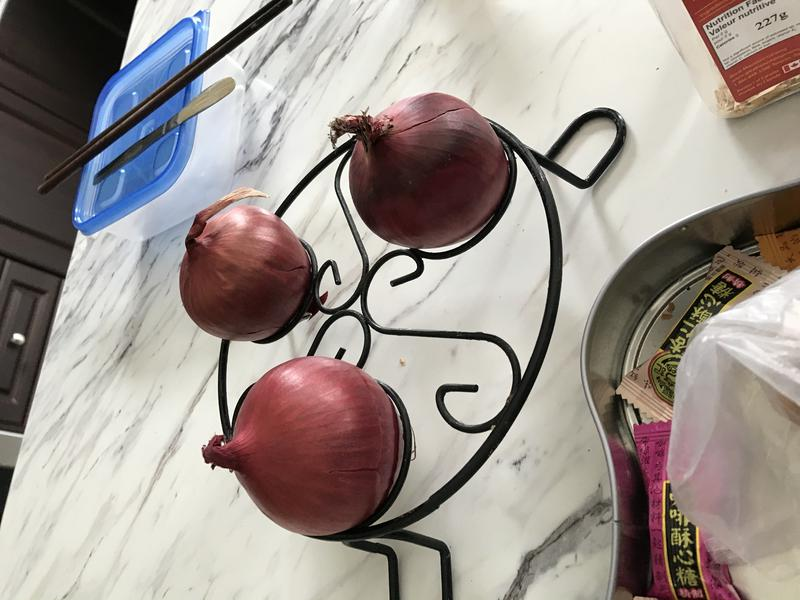purple_onion: (194, 352, 417, 548), (324, 84, 524, 258), (162, 179, 323, 348)
